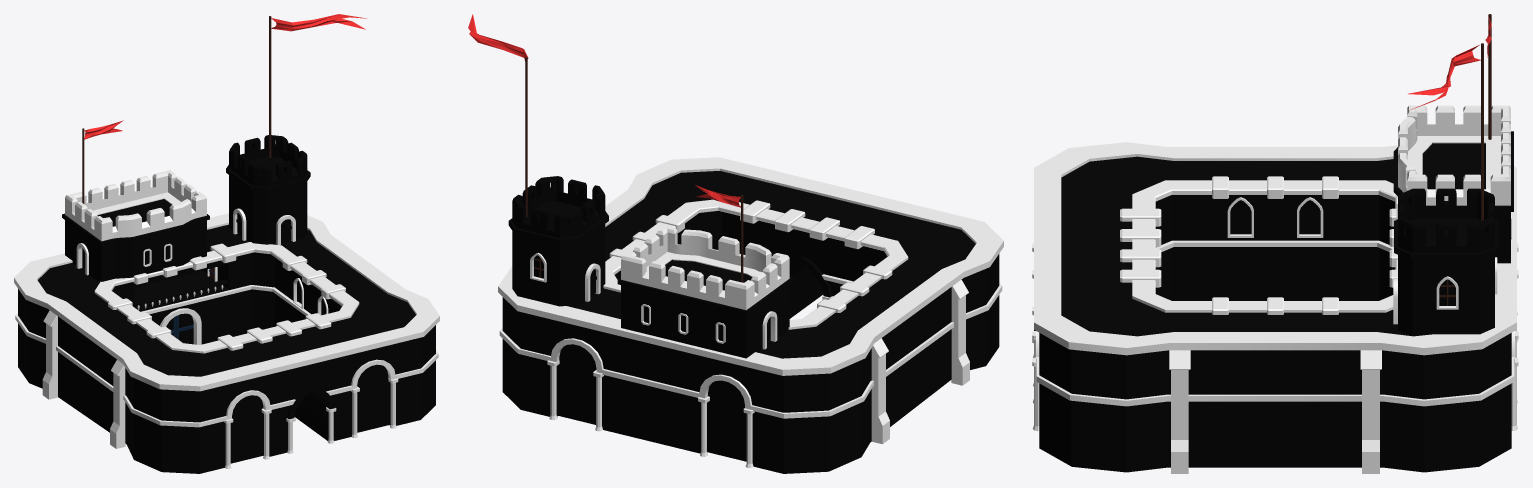
Rendered from fortress_a.FBX.
The picture shows the model from 3 angles, left to right: view 1: azimuth 30°, elevation 25°; view 2: azimuth 150°, elevation 25°; view 3: azimuth 270°, elevation 25°; orthographic projection. The views are drawn at different scales.
Visible parts, largest first — view 1: fortress_a; view 2: fortress_a; view 3: fortress_a.
Part boxes in pixels (x1,y1,x2,y2): fortress_a: [14, 14, 439, 473]; fortress_a: [468, 14, 1003, 473]; fortress_a: [1032, 14, 1518, 473].
Size of the model in its own units: 3229 by 2639 by 2846.
